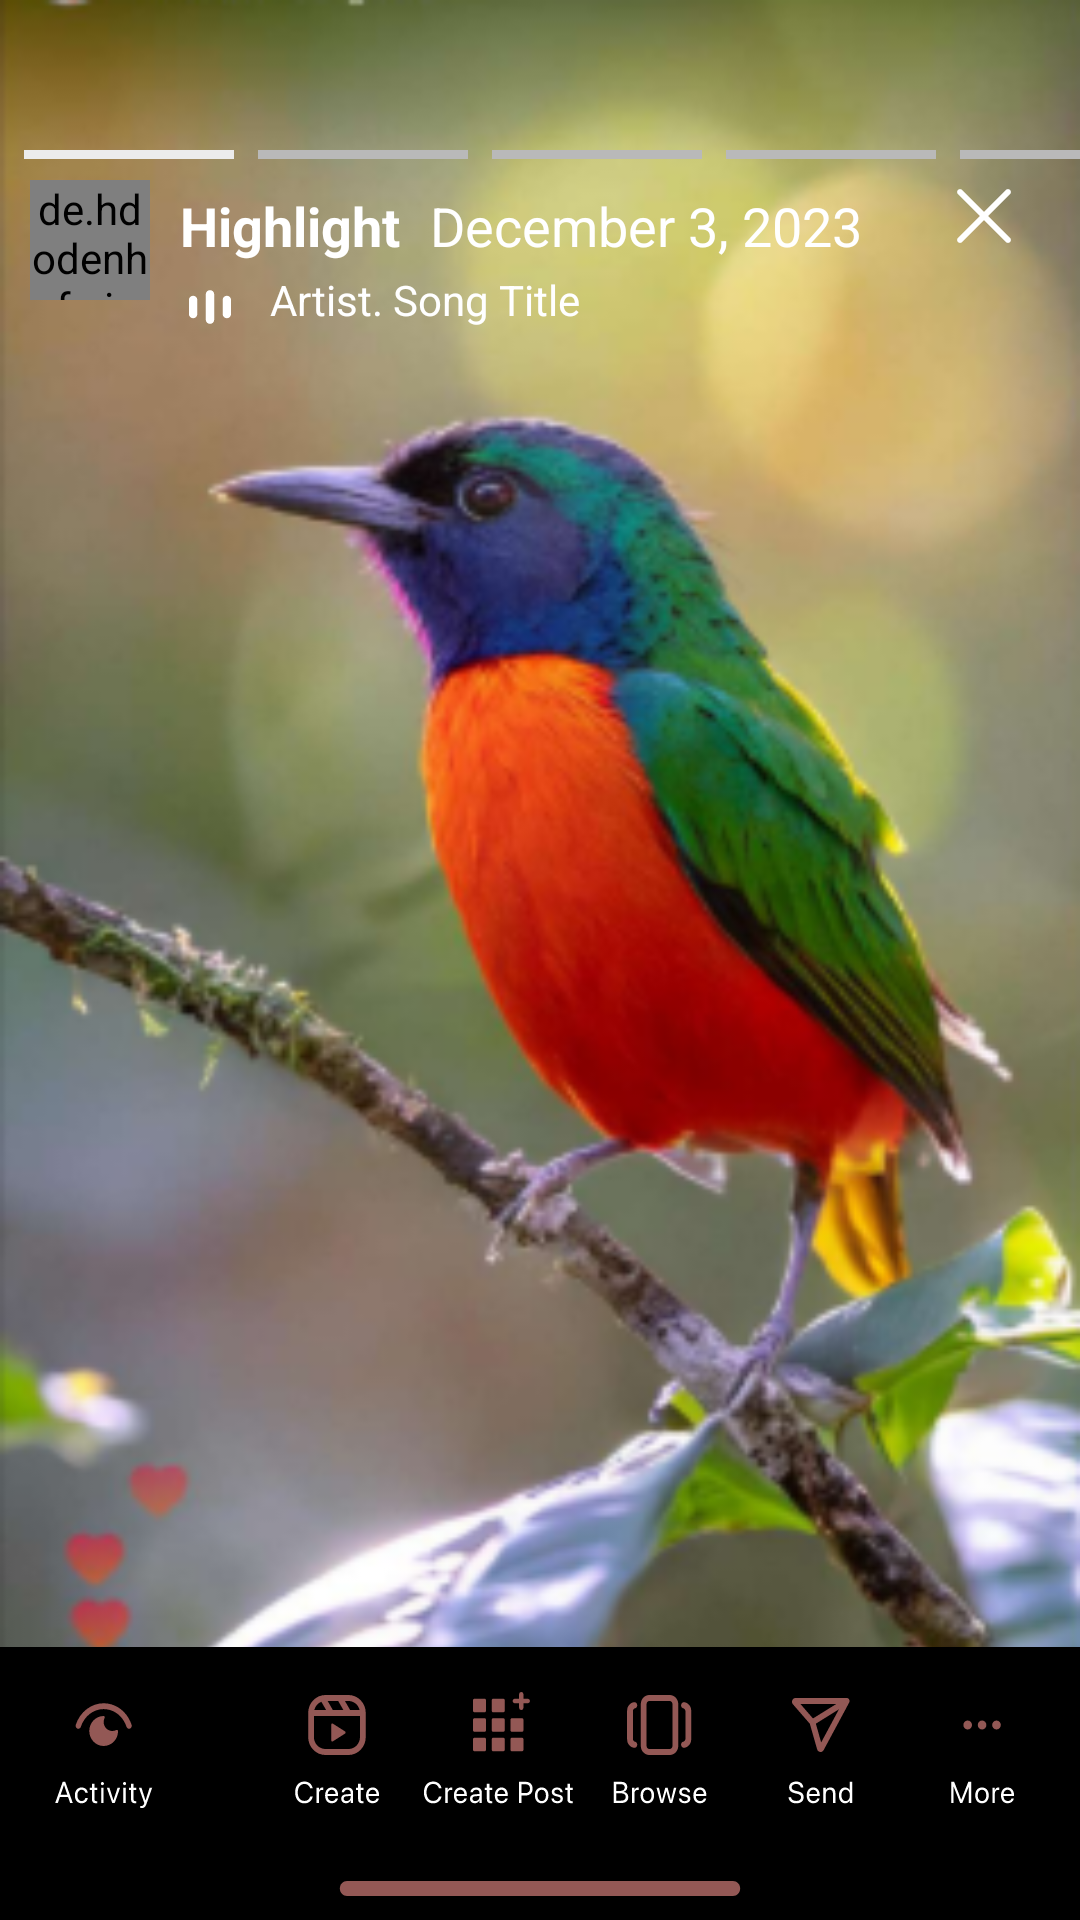

Where to tap for icons on this 1080 × 1920 app screen, as point (x, y):
close: point (984, 216)
soundwave: point (210, 307)
